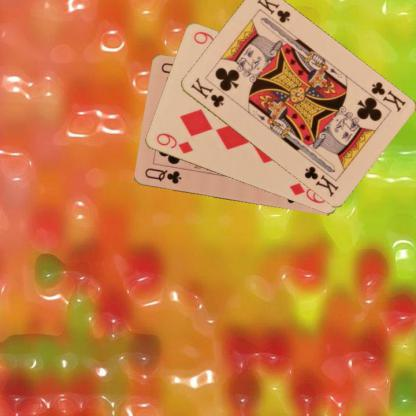9d: (153, 129, 194, 155)
Kc: (368, 78, 407, 114), (188, 75, 225, 109)
Qc: (142, 166, 182, 185)
